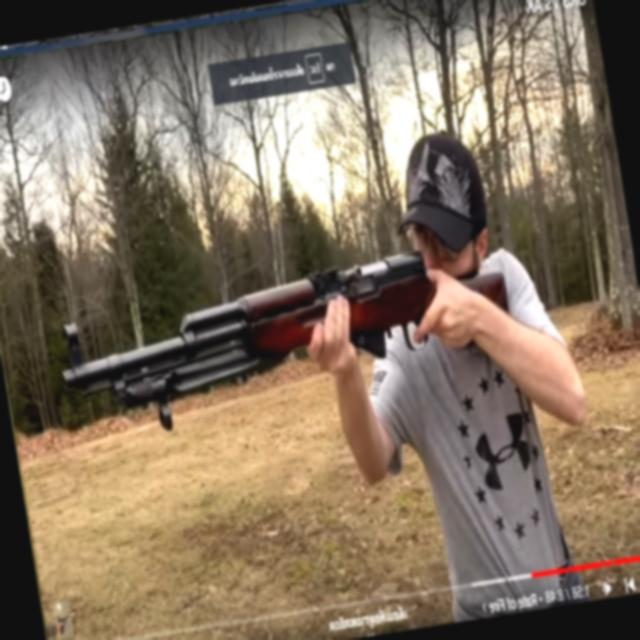ak: (46, 222, 527, 481)
